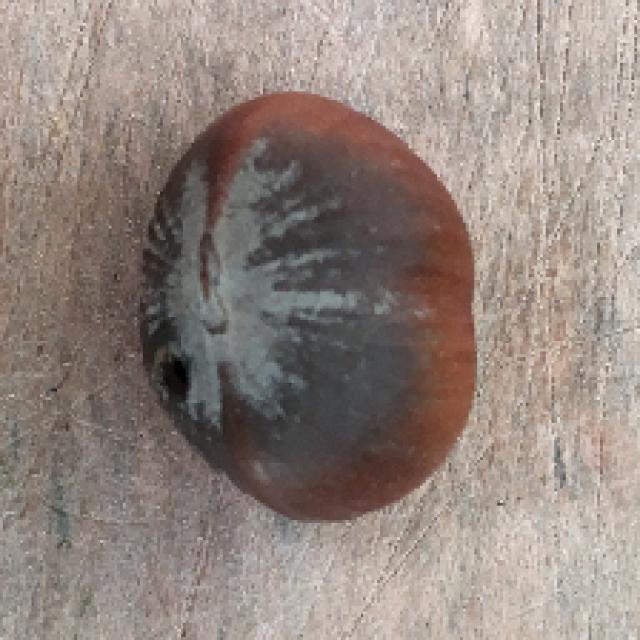damagedHazelnut: (138, 79, 484, 531)
